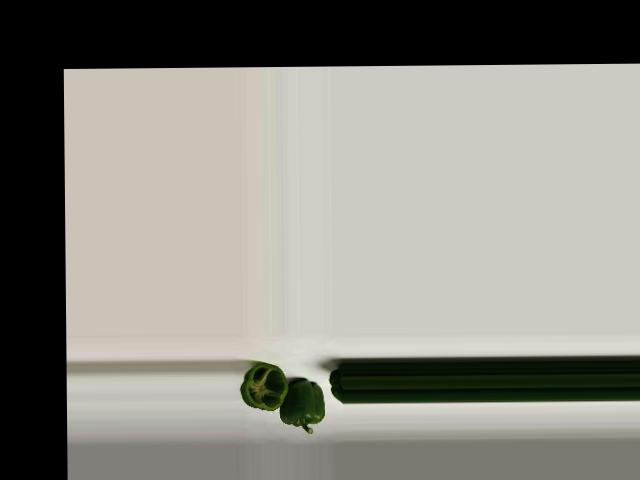bell_pepper: (237, 359, 291, 416)
